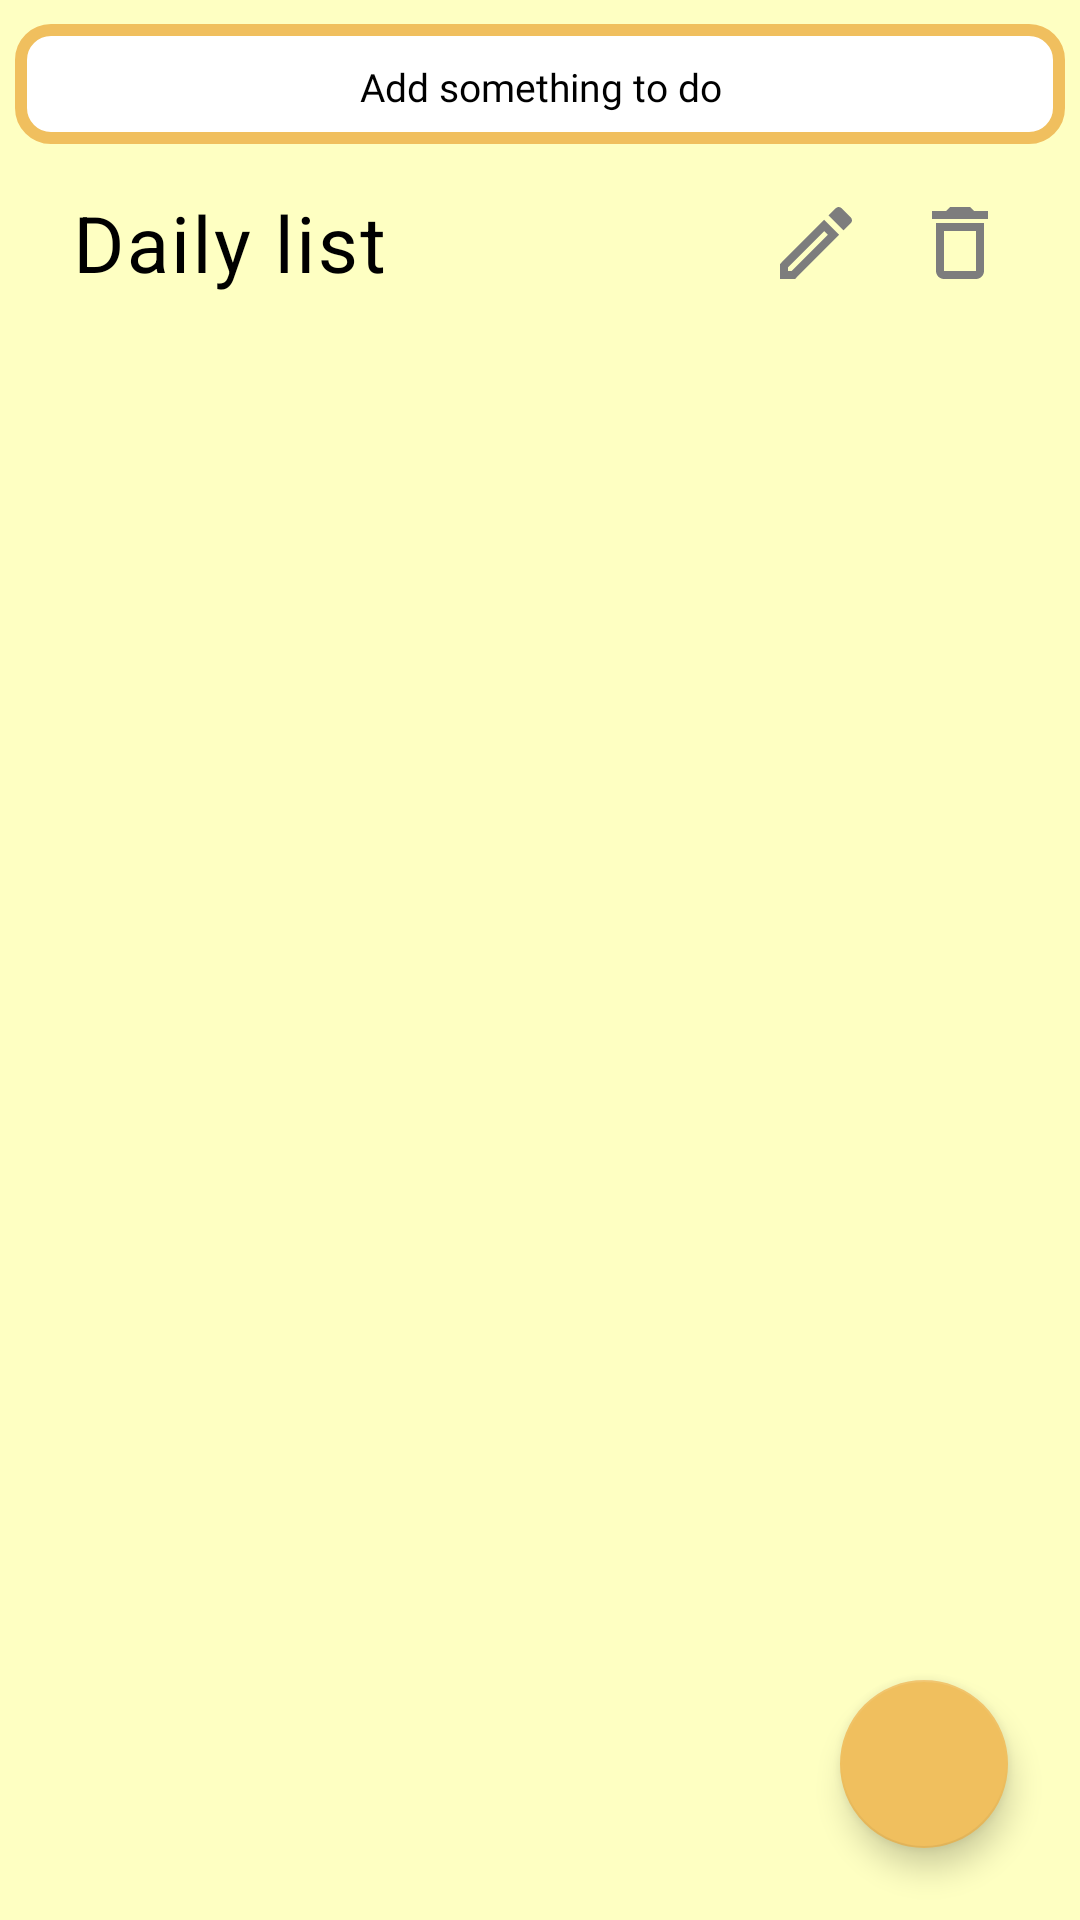

Named icons in this screenshot (1080x1920) and their centers, (x=x, y=y):
delete: (x=960, y=243)
edit: (x=816, y=243)
